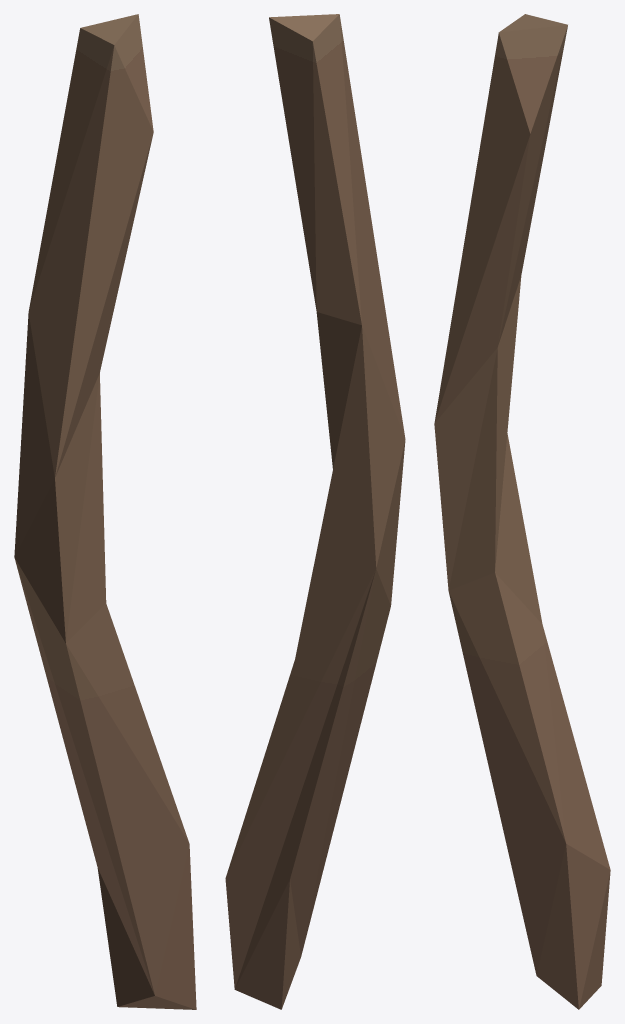
The model's file is YN_Vines1.fbx.
3 renders of one model, left to right at view 1: azimuth 30°, elevation 25°; view 2: azimuth 150°, elevation 25°; view 3: azimuth 330°, elevation 25°, orthographic. The views are drawn at different scales.
Parts seen in each view (by area): view 1: YN_Vines1; view 2: YN_Vines1; view 3: YN_Vines1.
Part boxes in pixels (box(x1,y1,x2,y2)): YN_Vines1: box(14, 14, 196, 1009); YN_Vines1: box(225, 14, 405, 1009); YN_Vines1: box(434, 14, 610, 1009).
Bounding box in the file's own units: 0.4393 × 2.76 × 0.1861.
